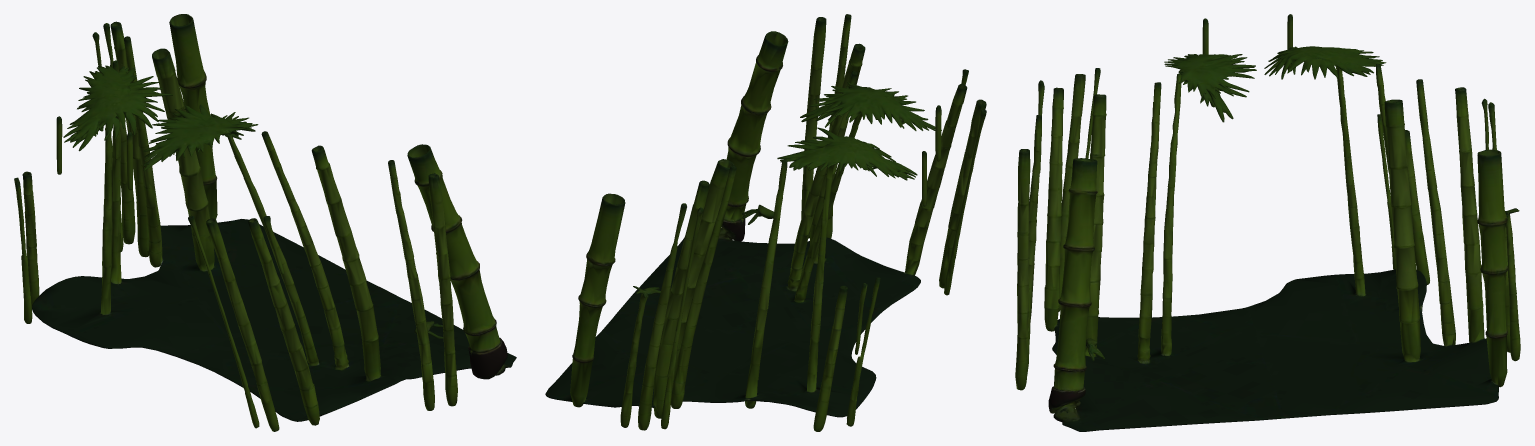
File: bamboo.glb
3 renders of one model, left to right at view 1: azimuth 30°, elevation 25°; view 2: azimuth 150°, elevation 25°; view 3: azimuth 270°, elevation 25°, orthographic. The views are drawn at different scales.
Visible parts, largest first — view 1: tripo_node_23700858-28d4-4577-ac22-b30fcd9e61a8; view 2: tripo_node_23700858-28d4-4577-ac22-b30fcd9e61a8; view 3: tripo_node_23700858-28d4-4577-ac22-b30fcd9e61a8.
Part boxes in pixels (box(x1,y1,x2,y2)): tripo_node_23700858-28d4-4577-ac22-b30fcd9e61a8: box(14, 14, 516, 431); tripo_node_23700858-28d4-4577-ac22-b30fcd9e61a8: box(545, 14, 986, 431); tripo_node_23700858-28d4-4577-ac22-b30fcd9e61a8: box(1015, 14, 1520, 431).
Bounding box in the file's own units: 0.8022 × 0.5672 × 0.9999.
1 material, 1 textured.
